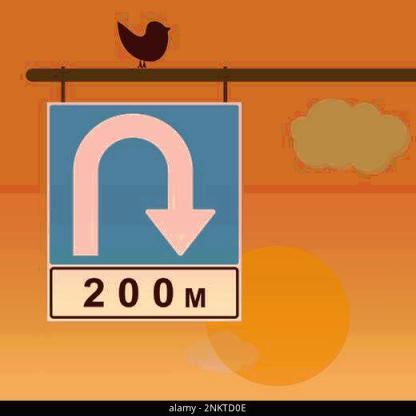U-turn: (56, 99, 236, 266)
